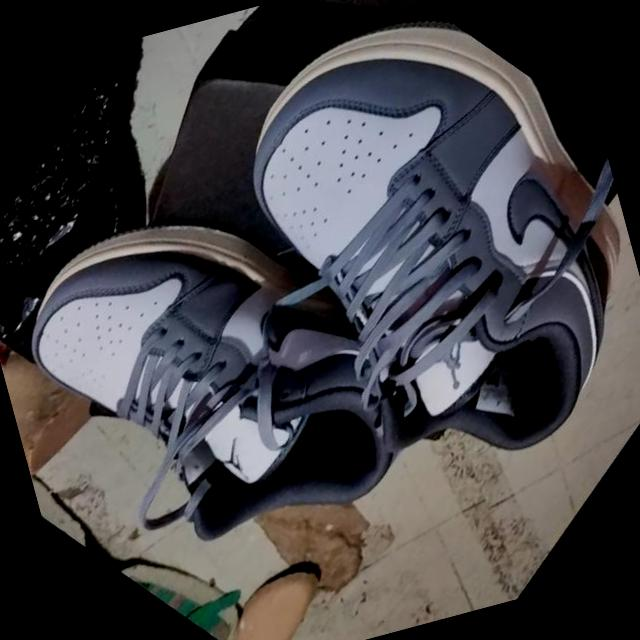nike_fake_jordan: (119, 0, 640, 556), (0, 89, 499, 640)
